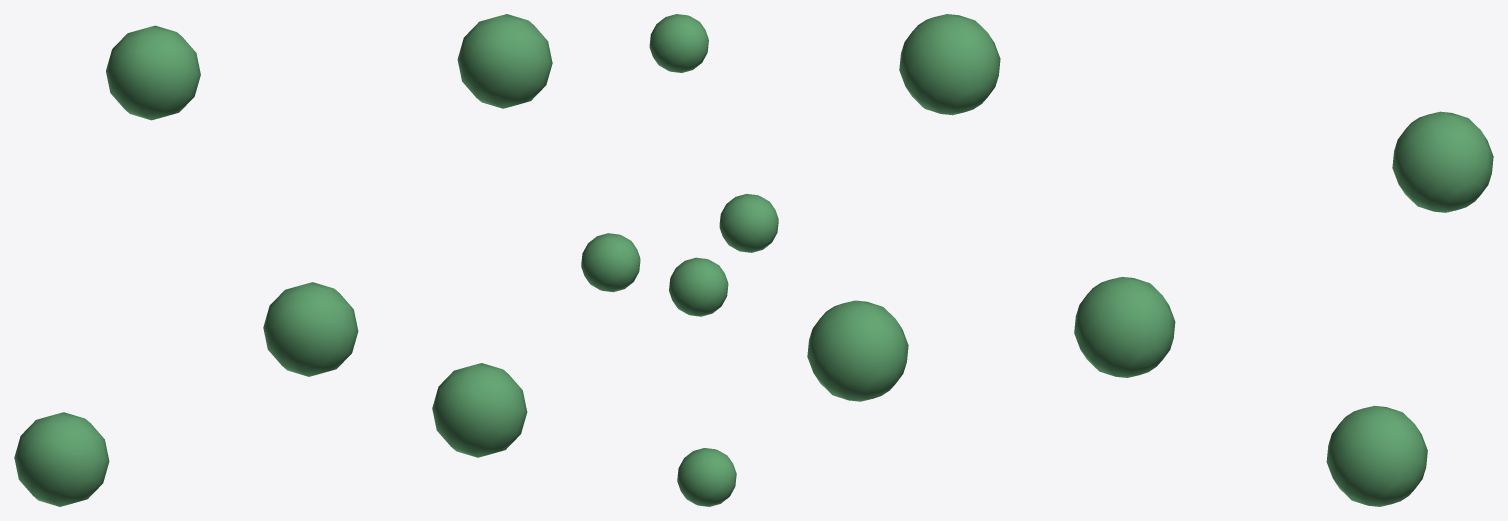
3 views of the same model, side by side, from view 1: azimuth 30°, elevation 25°; view 2: azimuth 150°, elevation 25°; view 3: azimuth 270°, elevation 25° (orthographic). The views are drawn at different scales.
Visible parts, largest first — view 1: 左侧乳突淋巴结; view 2: 左侧乳突淋巴结; view 3: 左侧乳突淋巴结.
Part boxes in pixels (x1,y1,x2,y2): 左侧乳突淋巴结: (14, 14, 552, 506); 左侧乳突淋巴结: (581, 14, 778, 506); 左侧乳突淋巴结: (807, 14, 1493, 506).
Bounding box in the file's own units: 0.0151 × 0.0253 × 0.0258.
